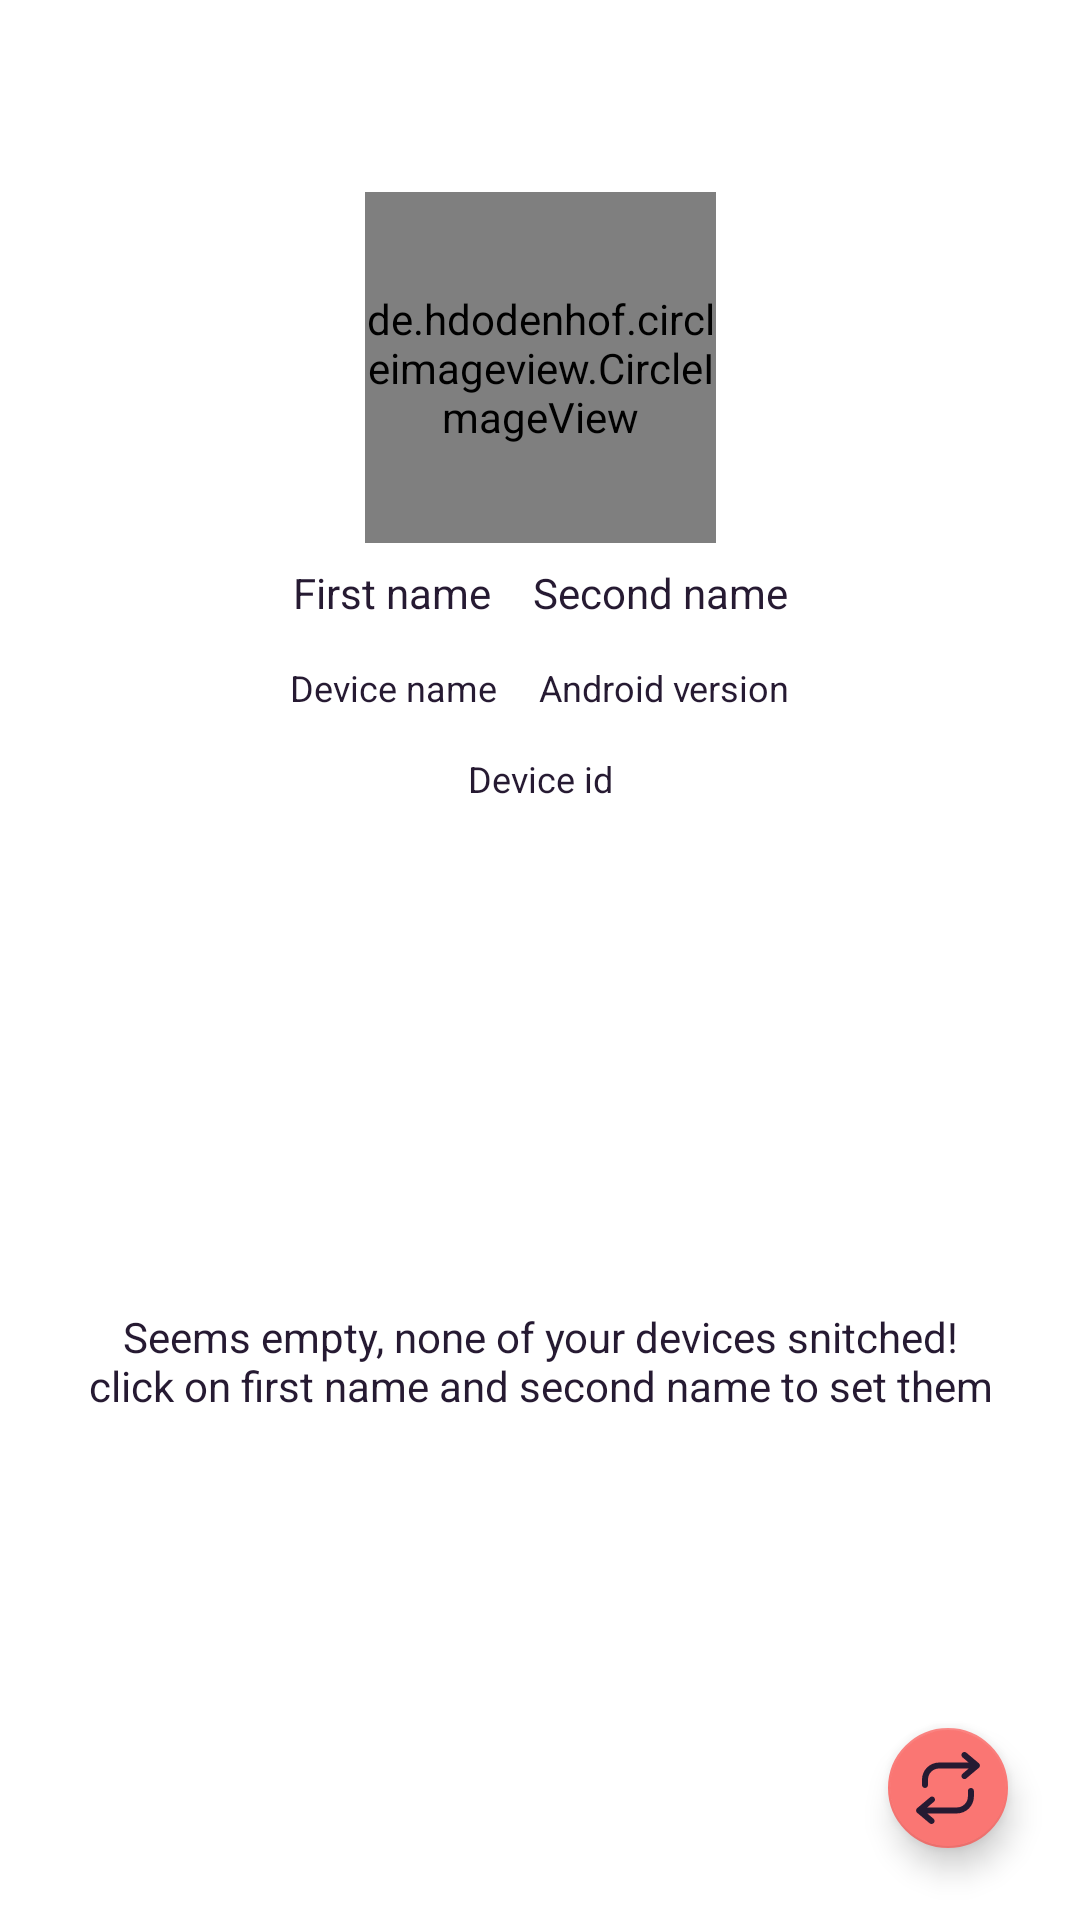

Point at icon controls on the screen. Image size 1080px×1920px, points as (x=x, y=y).
reload: (x=948, y=1788)
